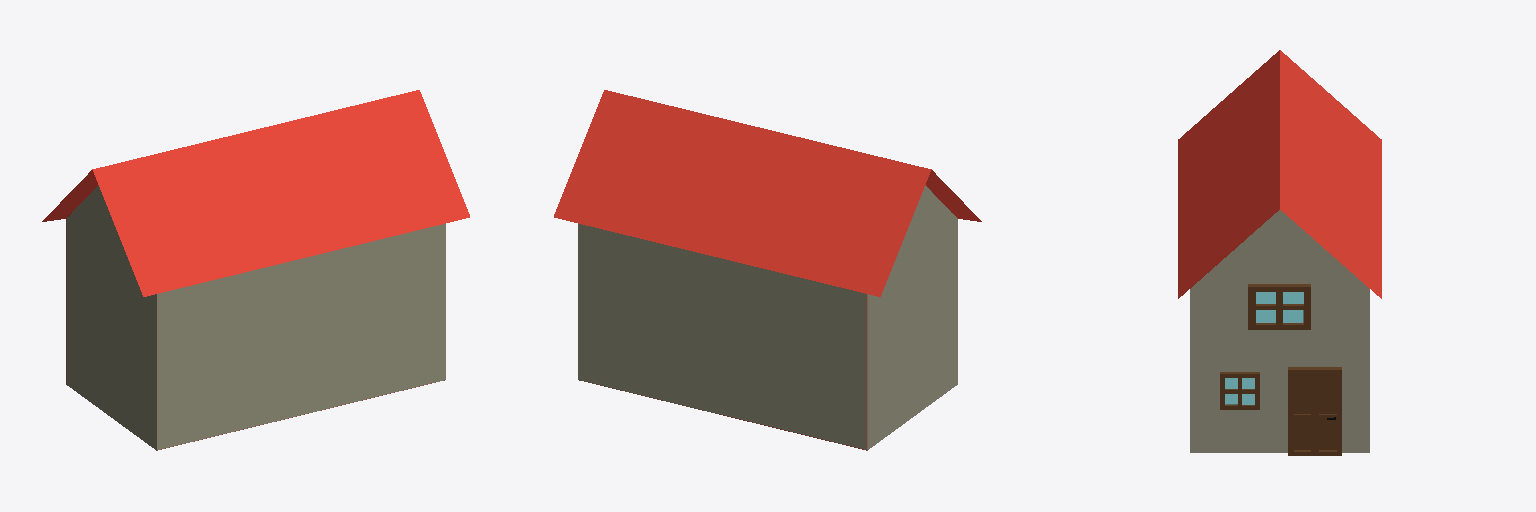
3 renders of one model, left to right at view 1: azimuth 30°, elevation 25°; view 2: azimuth 150°, elevation 25°; view 3: azimuth 270°, elevation 25°, orthographic.
Visible parts, largest first — view 1: Cube.004; view 2: Cube.004; view 3: Cube.004.
Part boxes in pixels (left/top/right/bottom): Cube.004: left=42, top=90, right=469, bottom=450; Cube.004: left=554, top=90, right=981, bottom=450; Cube.004: left=1178, top=50, right=1381, bottom=455.
Size of the model in its own units: 6.82 by 5.04 by 3.69.
1 materials, 1 textured.